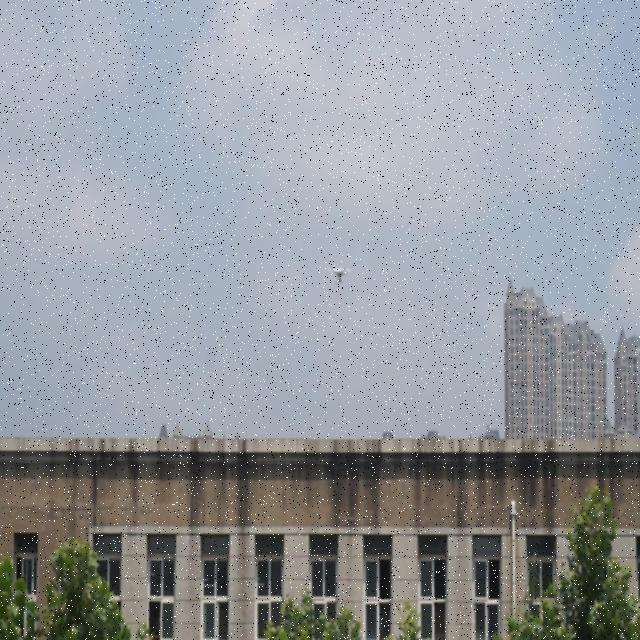UAV: (327, 266, 352, 285)
